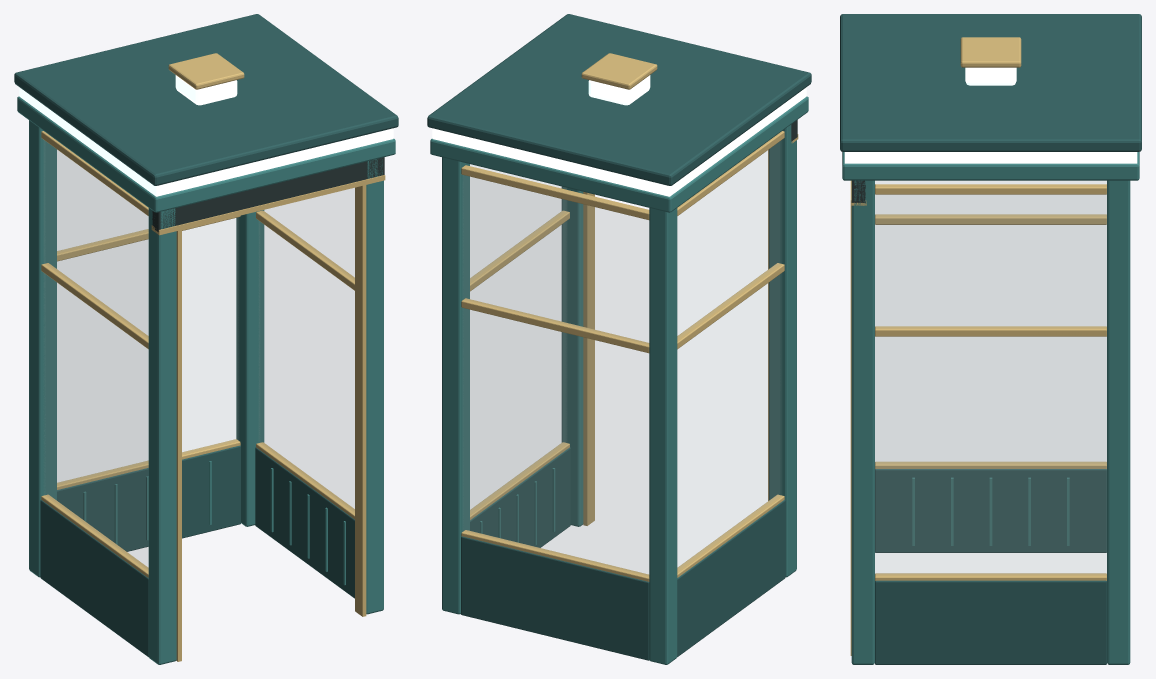
File: phone_booth_shell.glb
3 views of the same model, side by side, from view 1: azimuth 30°, elevation 25°; view 2: azimuth 150°, elevation 25°; view 3: azimuth 270°, elevation 25° (orthographic). The views are drawn at different scales.
Parts seen in each view (by area): view 1: BackGlass, LeftGlass, RoofCap, RightGlass, Post-1-1, Post-11, BackKick, LeftKick, Post1-1, Post11, RightKick, RoofBase (+14 smaller); view 2: BackGlass, RoofCap, LeftGlass, RightGlass, BackKick, Post-11, Post11, Post-1-1, LeftKick, Post1-1, RoofBase, RightKick (+12 smaller); view 3: RightGlass, LeftGlass, RoofCap, RightKick, LeftKick, Post11, Post1-1, RoofBase, RoofGlow, LeftRail1.57, RightRail1.57, RightRail2.25 (+5 smaller).
Boxes of the visible parts, bbox=[...] form: BackGlass: bbox=[57, 150, 238, 483]; LeftGlass: bbox=[44, 141, 147, 568]; RoofCap: bbox=[14, 14, 398, 185]; RightGlass: bbox=[259, 188, 354, 510]; Post-1-1: bbox=[148, 208, 176, 664]; Post-11: bbox=[29, 120, 56, 577]; BackKick: bbox=[57, 445, 240, 551]; LeftKick: bbox=[40, 499, 148, 657]; Post1-1: bbox=[366, 159, 383, 614]; Post11: bbox=[236, 210, 264, 526]; RightKick: bbox=[255, 447, 354, 598]; RoofBase: bbox=[17, 96, 395, 212]; BackGlass: bbox=[463, 175, 648, 575]; RoofCap: bbox=[427, 14, 811, 185]; LeftGlass: bbox=[678, 142, 780, 568]; RightGlass: bbox=[470, 165, 566, 510]; BackKick: bbox=[461, 536, 649, 660]; Post-11: bbox=[649, 208, 677, 664]; Post11: bbox=[442, 157, 469, 614]; Post-1-1: bbox=[769, 124, 796, 577]; LeftKick: bbox=[677, 499, 785, 657]; Post1-1: bbox=[561, 186, 583, 526]; RoofBase: bbox=[430, 96, 808, 212]; RightKick: bbox=[470, 447, 570, 547]; RightGlass: bbox=[875, 195, 1106, 574]; LeftGlass: bbox=[875, 181, 1106, 461]; RoofCap: bbox=[840, 14, 1141, 151]; RightKick: bbox=[875, 580, 1106, 664]; LeftKick: bbox=[875, 469, 1106, 552]; Post11: bbox=[1107, 180, 1130, 664]; Post1-1: bbox=[851, 180, 874, 664]; RoofBase: bbox=[842, 152, 1139, 180]; RoofGlow: bbox=[844, 152, 1137, 163]; LeftRail1.57: bbox=[875, 214, 1106, 224]; RightRail1.57: bbox=[875, 326, 1106, 336]; RightRail2.25: bbox=[875, 184, 1106, 194].
Bounding box in the file's own units: 1.3 × 2.65 × 1.3.
